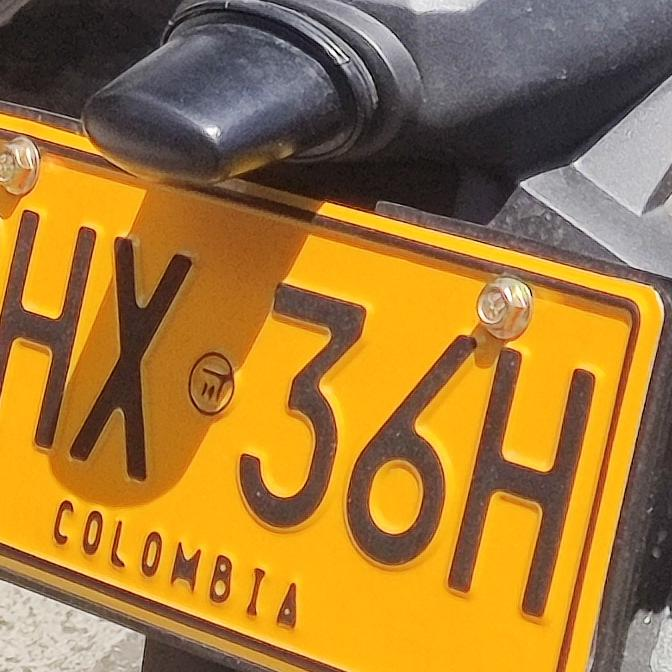plates: (0, 103, 672, 672)
